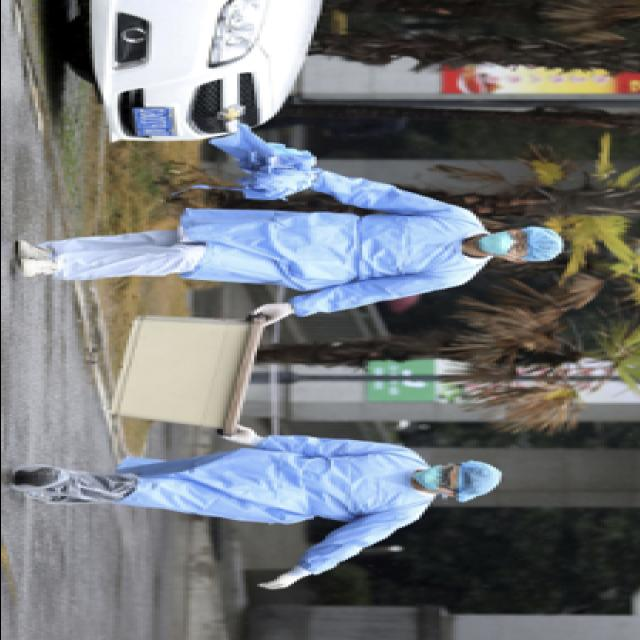mask: (478, 232, 529, 259), (413, 466, 455, 494)
